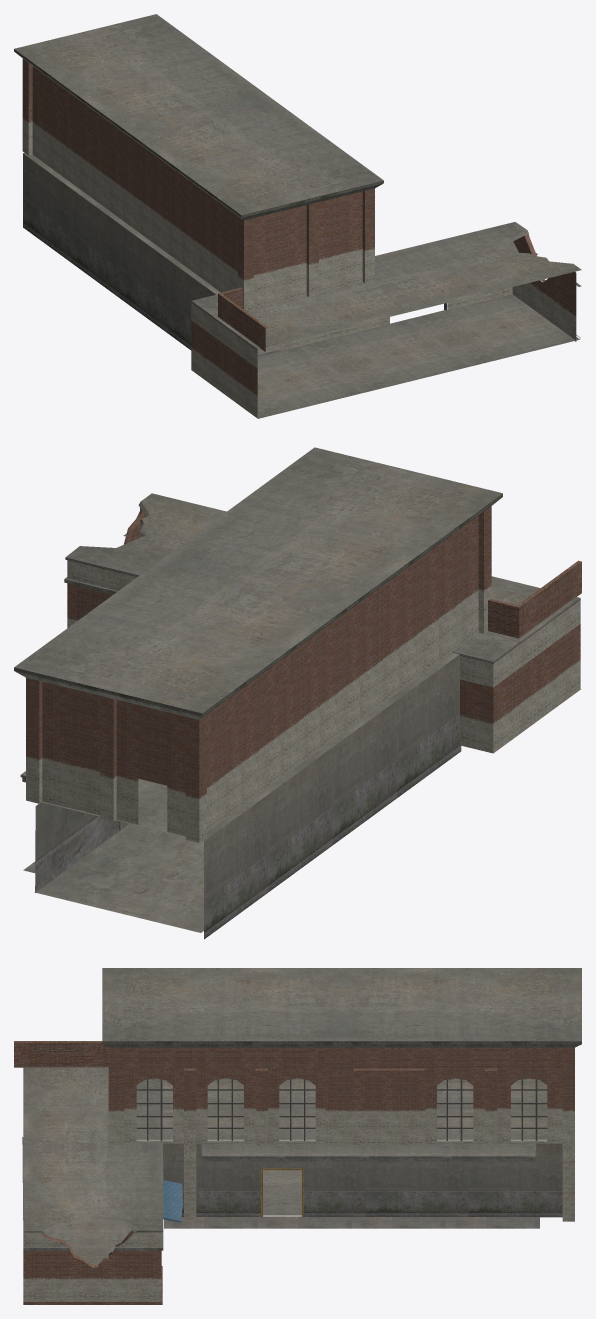
The model's file is Building_HeiygcFz04_2048_lod1.glb.
3 renders of one model, top to bottom at view 1: azimuth 30°, elevation 25°; view 2: azimuth 150°, elevation 25°; view 3: azimuth 270°, elevation 25°, orthographic. The views are drawn at different scales.
Parts seen in each view (by area): view 1: xiutz_heiygc_fz_04_lod1; view 2: xiutz_heiygc_fz_04_lod1; view 3: xiutz_heiygc_fz_04_lod1.
Part boxes in pixels (x1,y1,x2,y2): xiutz_heiygc_fz_04_lod1: [14, 14, 581, 418]; xiutz_heiygc_fz_04_lod1: [14, 447, 581, 939]; xiutz_heiygc_fz_04_lod1: [14, 968, 581, 1304].
Size of the model in its own units: 26.58 by 13.73 by 38.14.
1 material, 1 textured.
